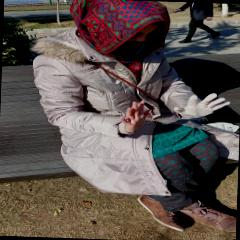gloved: (174, 92, 232, 120)
not-gloved: (120, 98, 150, 133)
